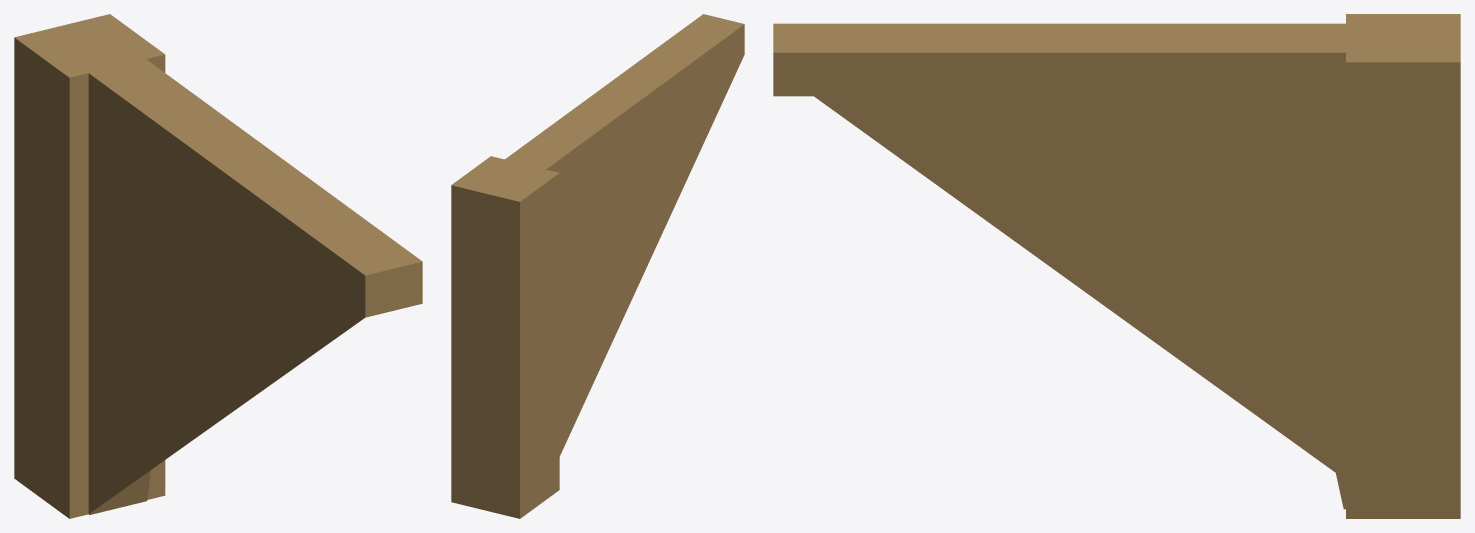
Rendered from wood_arch_01.glb.
The picture shows the model from 3 angles, left to right: view 1: azimuth 30°, elevation 25°; view 2: azimuth 150°, elevation 25°; view 3: azimuth 270°, elevation 25°; orthographic projection. The views are drawn at different scales.
Visible parts, largest first — view 1: Mesh1 Wood_Arch Model; view 2: Mesh1 Wood_Arch Model; view 3: Mesh1 Wood_Arch Model.
Part boxes in pixels (box(x1,y1,x2,y2)): Mesh1 Wood_Arch Model: box(14, 14, 422, 518); Mesh1 Wood_Arch Model: box(451, 14, 744, 518); Mesh1 Wood_Arch Model: box(773, 14, 1460, 518).
Size of the model in its own units: 0.5 by 2.2 by 3.
